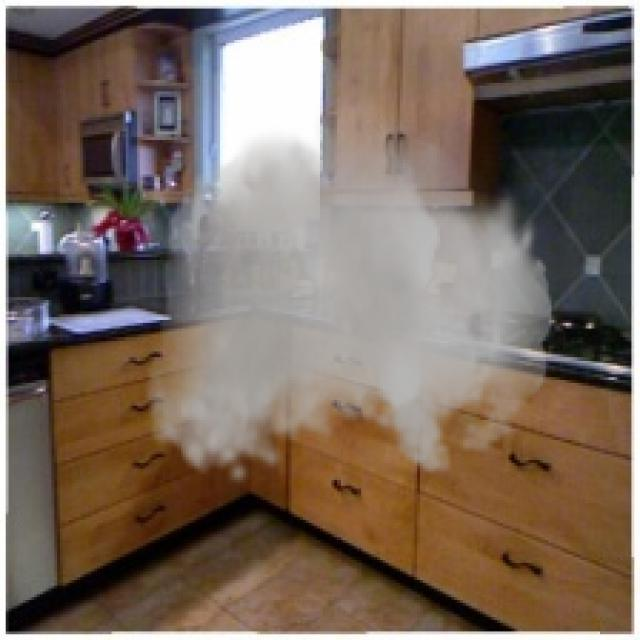Smoke: (146, 80, 552, 486)
